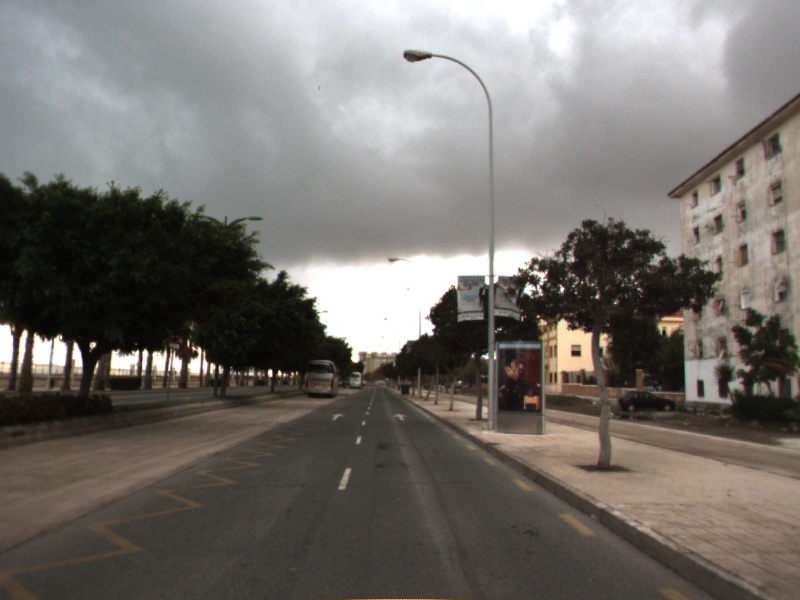STRAIGHT: (390, 411, 410, 422), (329, 411, 347, 422)
